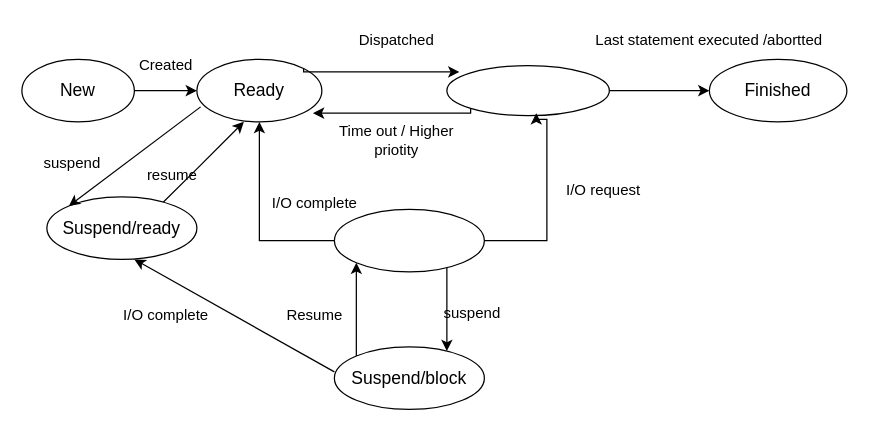
Image size: 881x431. Some labels were removed from this diagram. The shapes that lost their labels are listed below. From the top down, each one's centre as x and y in pixels, then its label:
At point (527, 90): "Running".
At point (408, 240): "Waiting".
